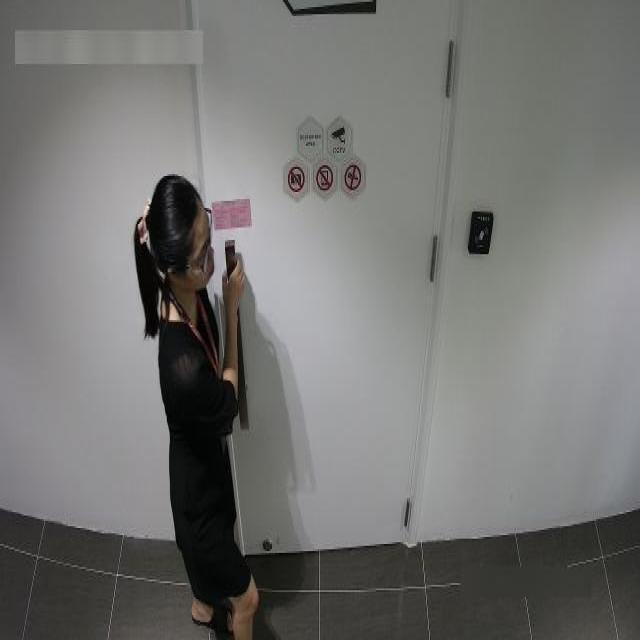bare_hand: (220, 249, 257, 327)
